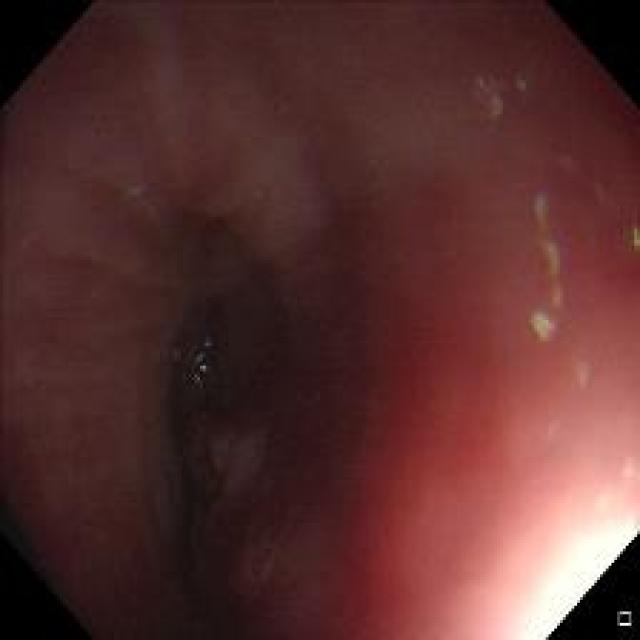bubbles: (192, 326, 215, 392)
color misalignment: (526, 185, 571, 341), (476, 69, 532, 119), (572, 356, 595, 399)
contrast: (119, 215, 319, 549)
saturation: (504, 512, 631, 630)
